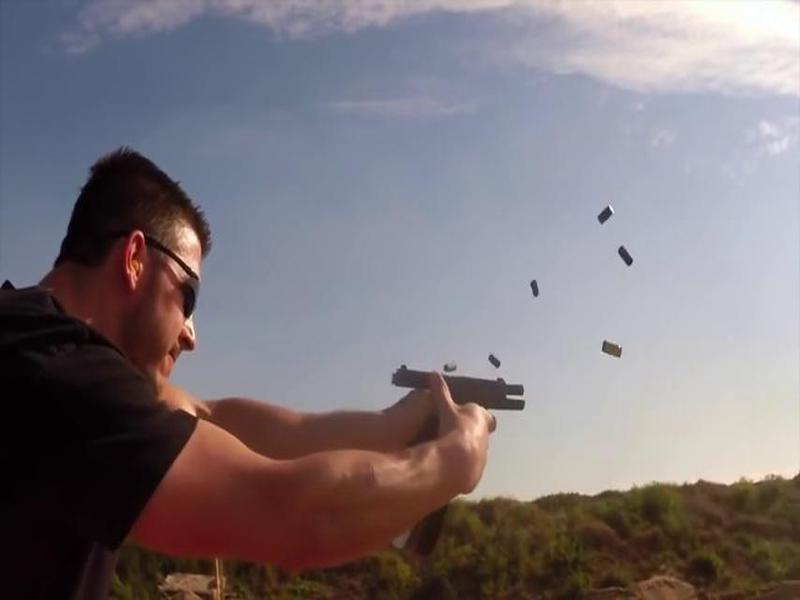Pistola: (373, 360, 540, 477)
